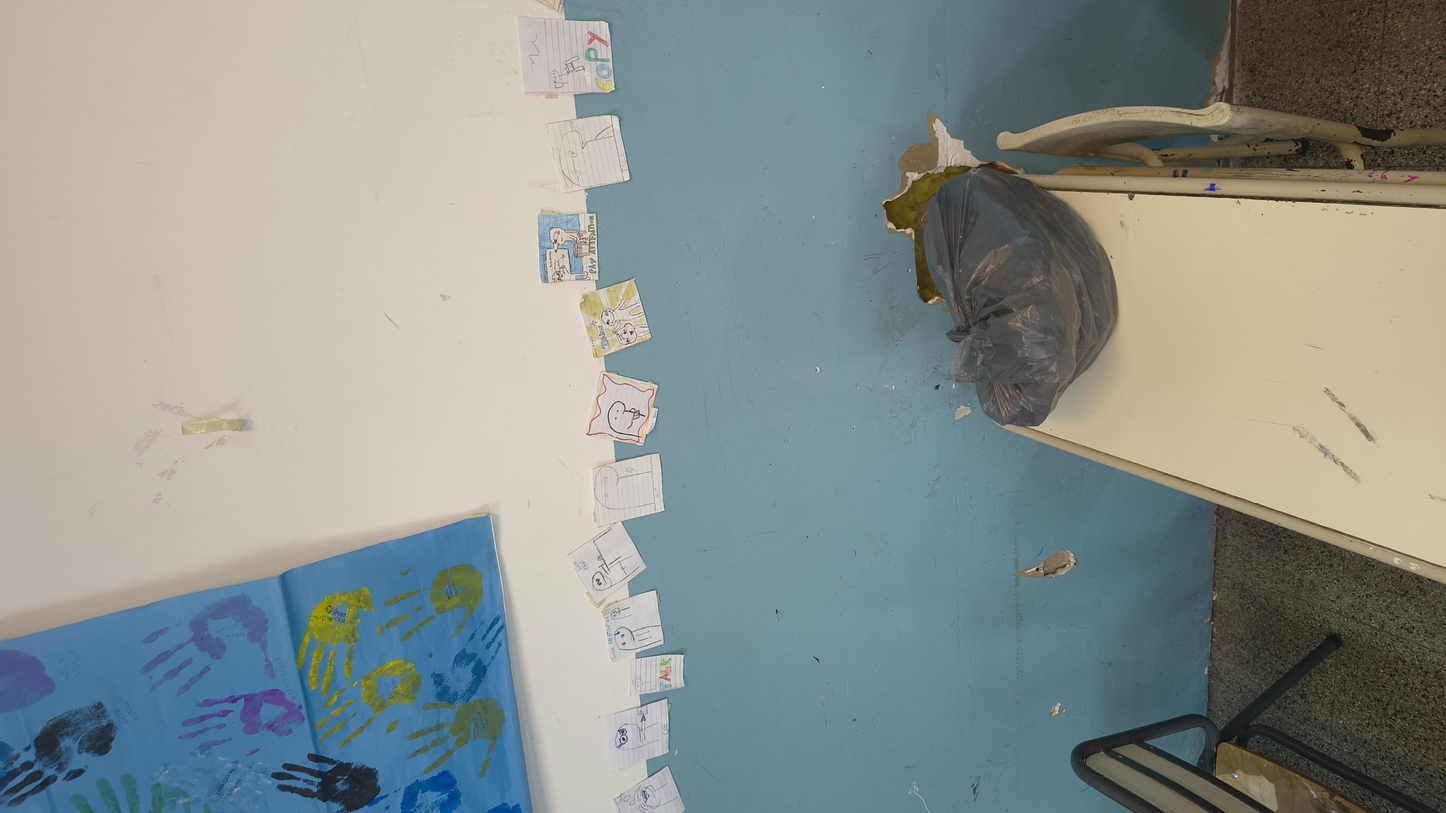Garbage: (659, 504, 1218, 643)
